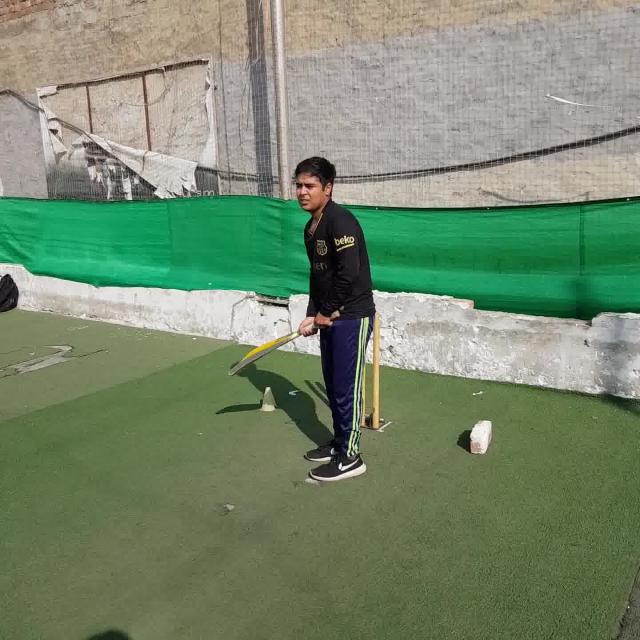bat: (228, 311, 338, 375)
